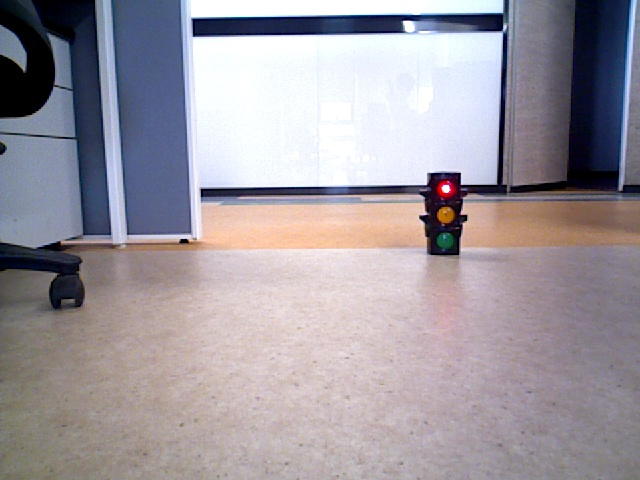red: (427, 175, 459, 251)
